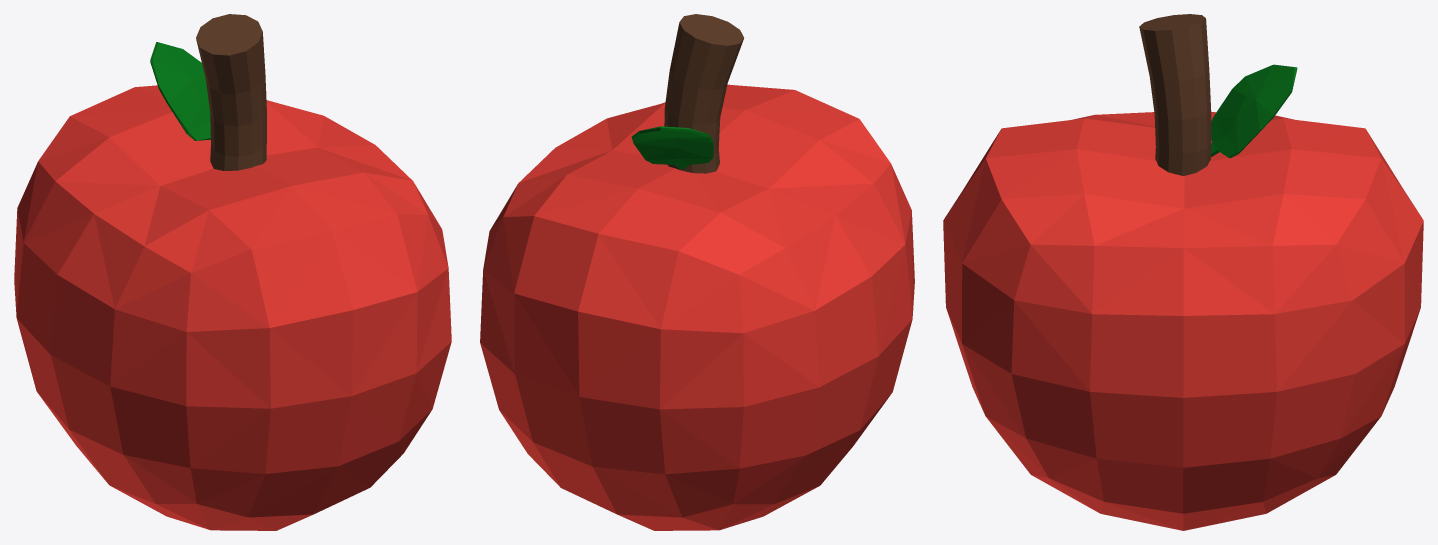
Rendered from Manzana.fbx.
The picture shows the model from 3 angles, left to right: view 1: azimuth 30°, elevation 25°; view 2: azimuth 150°, elevation 25°; view 3: azimuth 270°, elevation 25°; orthographic projection.
Parts seen in each view (by area): view 1: Manzana; view 2: Manzana; view 3: Manzana.
Part boxes in pixels (<box>): Manzana: <box>14,14,451,530</box>; Manzana: <box>480,14,914,530</box>; Manzana: <box>943,14,1423,530</box>.
Size of the model in its own units: 172 by 216 by 196.
